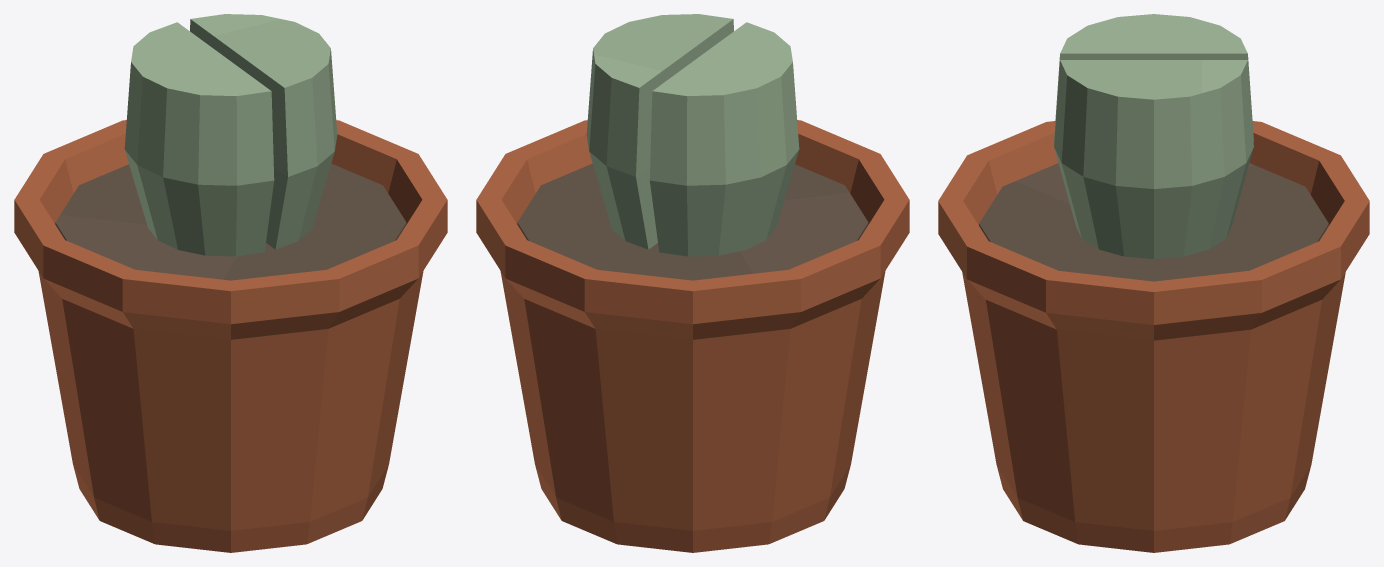
Rendered from new-nelii.glb.
The picture shows the model from 3 angles, left to right: view 1: azimuth 30°, elevation 25°; view 2: azimuth 150°, elevation 25°; view 3: azimuth 270°, elevation 25°; orthographic projection.
Visible parts, largest first — view 1: new-nelii/review-terra-vessel, new-nelii/fused-leaf-half-real-cleft-001, new-nelii/review-rooted-soil, new-nelii/fused-leaf-half-real-cleft-002; view 2: new-nelii/review-terra-vessel, new-nelii/fused-leaf-half-real-cleft-001, new-nelii/review-rooted-soil, new-nelii/fused-leaf-half-real-cleft-002; view 3: new-nelii/review-terra-vessel, new-nelii/fused-leaf-half-real-cleft-002, new-nelii/review-rooted-soil, new-nelii/fused-leaf-half-real-cleft-001.
Part boxes in pixels (x1,y1,x2,y2): new-nelii/review-terra-vessel: (14, 120, 447, 552); new-nelii/fused-leaf-half-real-cleft-001: (124, 22, 274, 256); new-nelii/review-rooted-soil: (55, 163, 406, 280); new-nelii/fused-leaf-half-real-cleft-002: (190, 14, 337, 249); new-nelii/review-terra-vessel: (476, 120, 909, 552); new-nelii/fused-leaf-half-real-cleft-001: (649, 22, 799, 256); new-nelii/review-rooted-soil: (517, 163, 868, 280); new-nelii/fused-leaf-half-real-cleft-002: (586, 14, 733, 249); new-nelii/review-terra-vessel: (938, 121, 1369, 552); new-nelii/fused-leaf-half-real-cleft-002: (1054, 60, 1253, 258); new-nelii/review-rooted-soil: (979, 163, 1328, 281); new-nelii/fused-leaf-half-real-cleft-001: (1054, 14, 1253, 140).
Bounding box in the file's own units: 0.19 × 0.21 × 0.19.
Materials: 3 (3 with a texture image).
